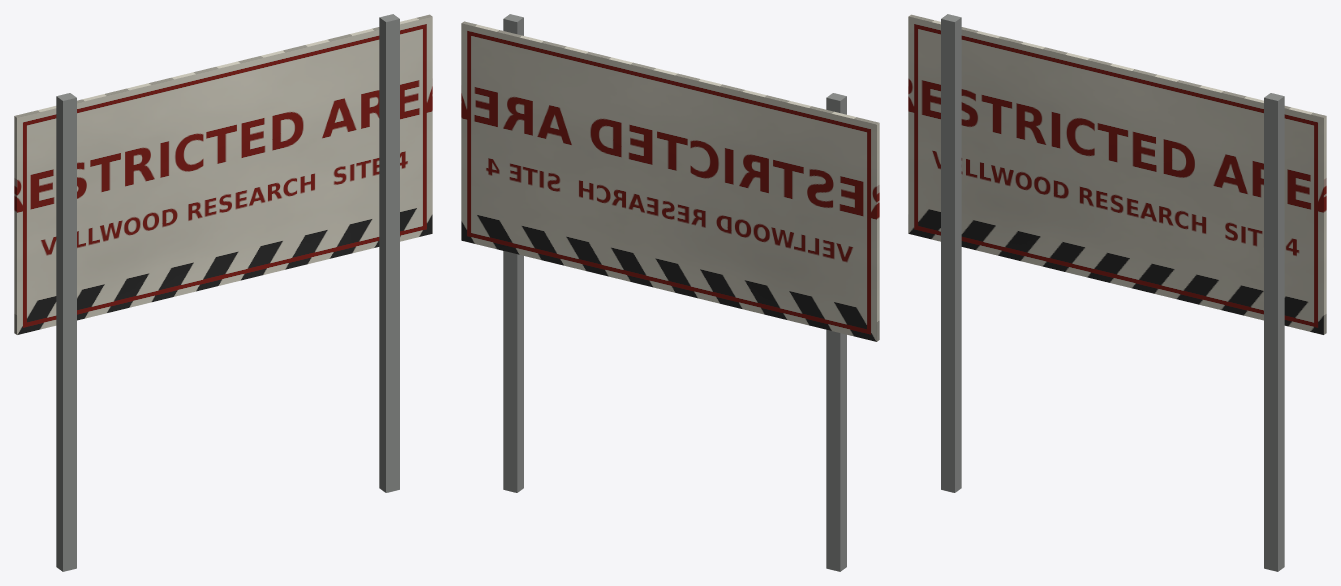
The model's file is warning_sign.glb.
3 renders of one model, left to right at view 1: azimuth 30°, elevation 25°; view 2: azimuth 150°, elevation 25°; view 3: azimuth 330°, elevation 25°, orthographic.
Parts seen in each view (by area): view 1: warning_sign; view 2: warning_sign; view 3: warning_sign.
Boxes of the visible parts, left/top/right/bottom form: warning_sign: left=14, top=14, right=432, bottom=571; warning_sign: left=461, top=14, right=879, bottom=571; warning_sign: left=908, top=14, right=1326, bottom=571.
Size of the model in its own units: 1.8 by 1.95 by 0.07.
2 materials, 1 textured.
